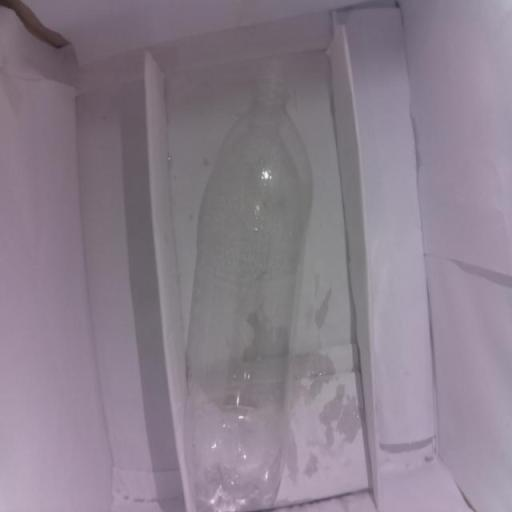plastic: (176, 45, 325, 512)
